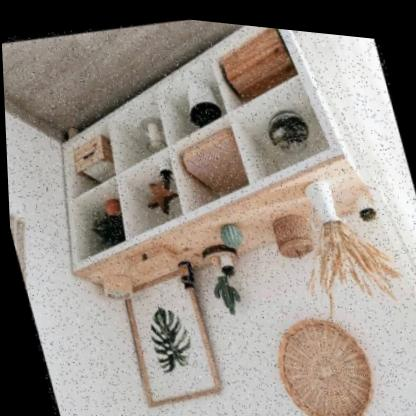Shelf: (5, 0, 400, 331)
